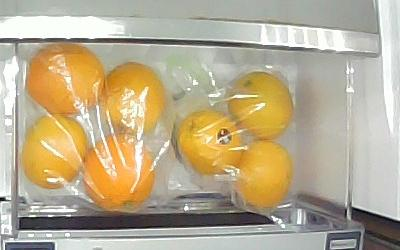orange_vinyl: (86, 132, 156, 213), (29, 42, 104, 116), (99, 62, 164, 135), (24, 116, 85, 189), (229, 72, 293, 141), (178, 110, 241, 175), (233, 141, 292, 208)
